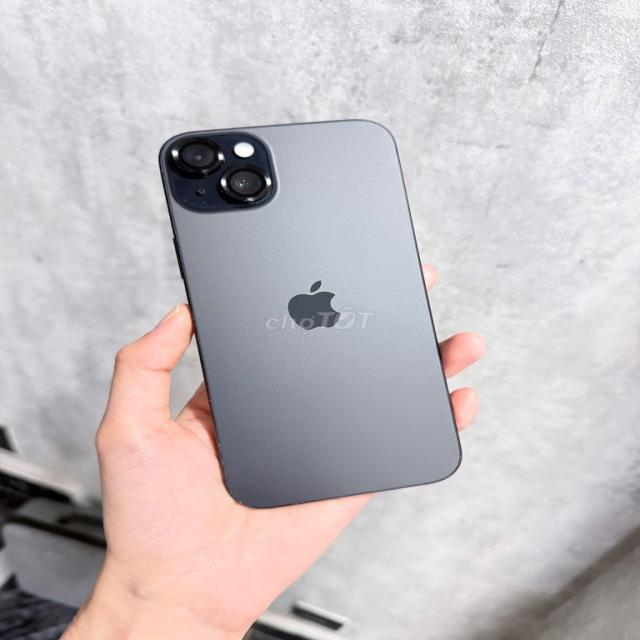gen_15: (147, 104, 476, 515)
scratch: (209, 440, 254, 512)
